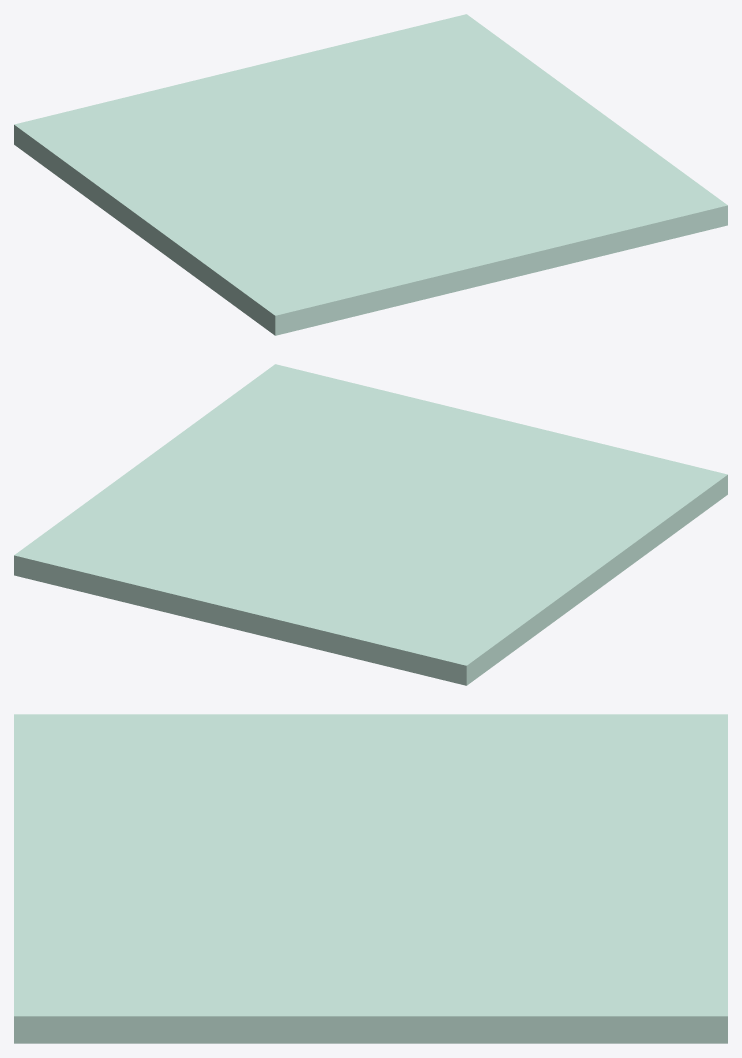
3 views of the same model, one above another, from view 1: azimuth 30°, elevation 25°; view 2: azimuth 150°, elevation 25°; view 3: azimuth 270°, elevation 25° (orthographic). The views are drawn at different scales.
Visible parts, largest first — view 1: Renderer Node; view 2: Renderer Node; view 3: Renderer Node.
Part boxes in pixels (x1,y1,x2,y2): Renderer Node: (14, 14, 727, 335); Renderer Node: (14, 364, 727, 685); Renderer Node: (14, 714, 727, 1043).
Size of the model in its own units: 1.48 by 0.0625 by 1.48.
